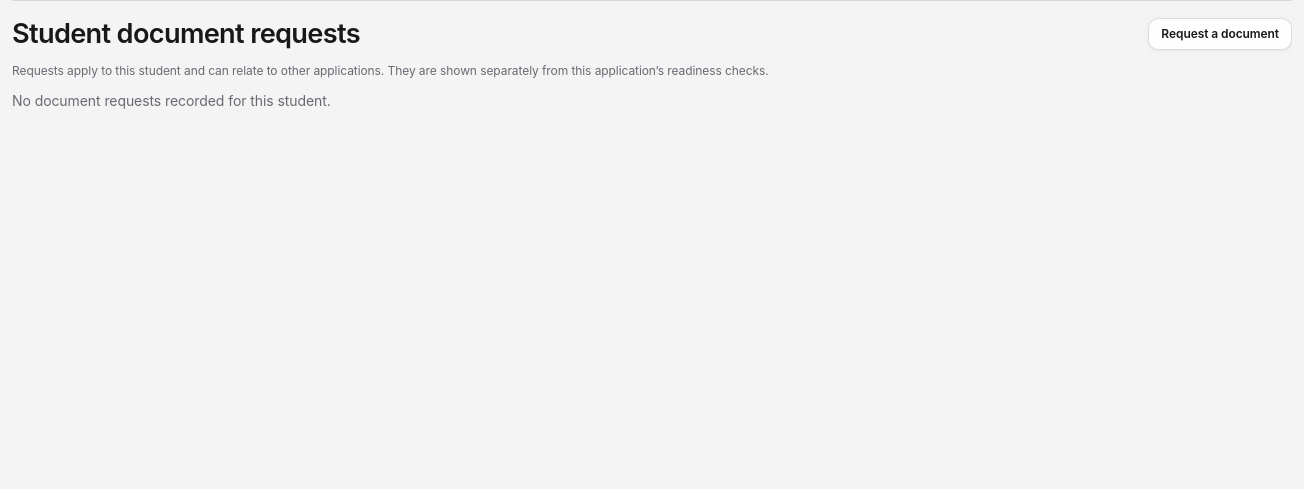
Scenario: staff student-document request loop › creates a portal request using the selected student/tenant and staff identity
The width and height of the screenshot is (1304, 489).
expect the text "No document requests recorded for this student." is shown: met, box [12,92,331,109]
Step 1. Click the button "Request a document" → (1220, 34), box [1148,18,1292,50]
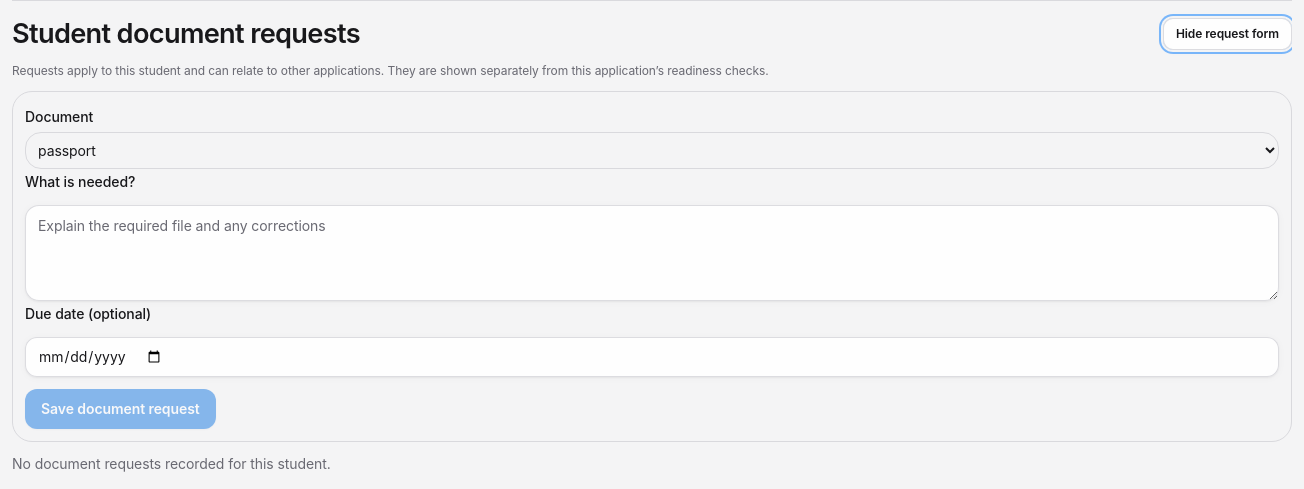
Step 2. Type "Upload a readable passport scan" into the text box labelled "What is needed?" → (652, 253), box [25,205,1279,301]
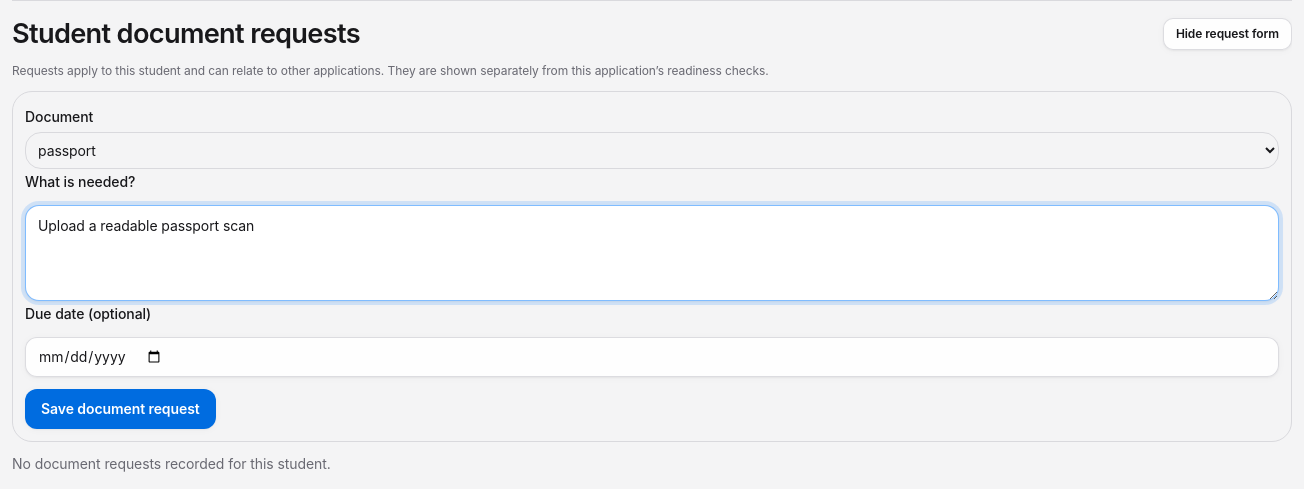
Step 3. Click the button "Save document request" → (120, 409), box [25,389,216,429]
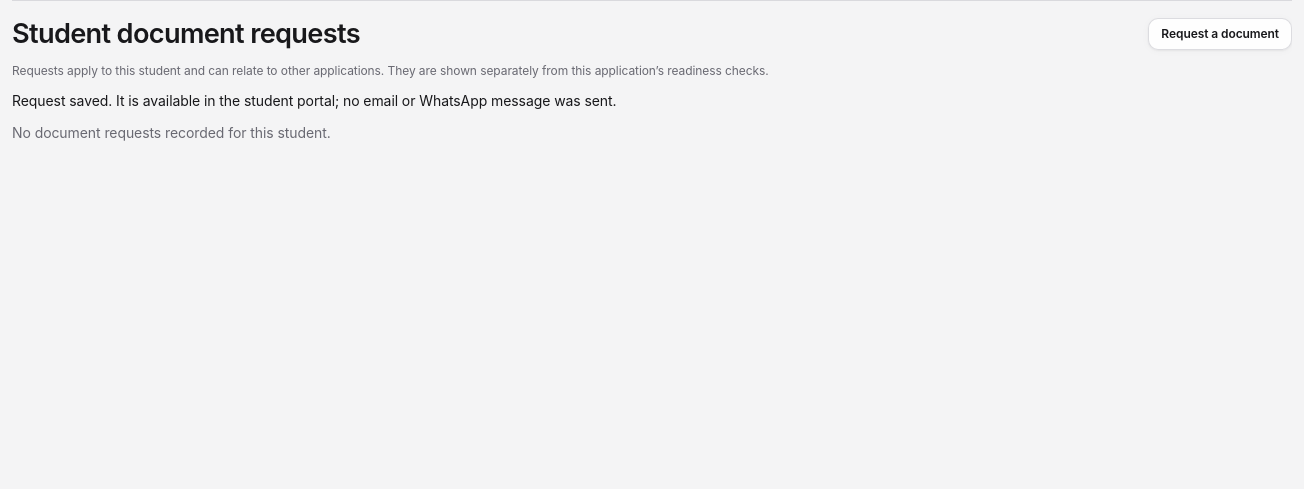
expect the message shows "no email or WhatsApp message was sent": met, box [12,92,616,109]
